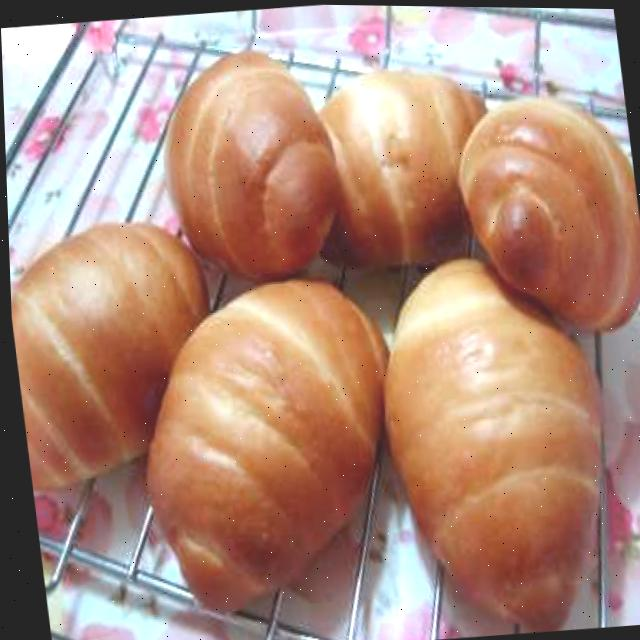面包点心: (1, 30, 640, 640)
